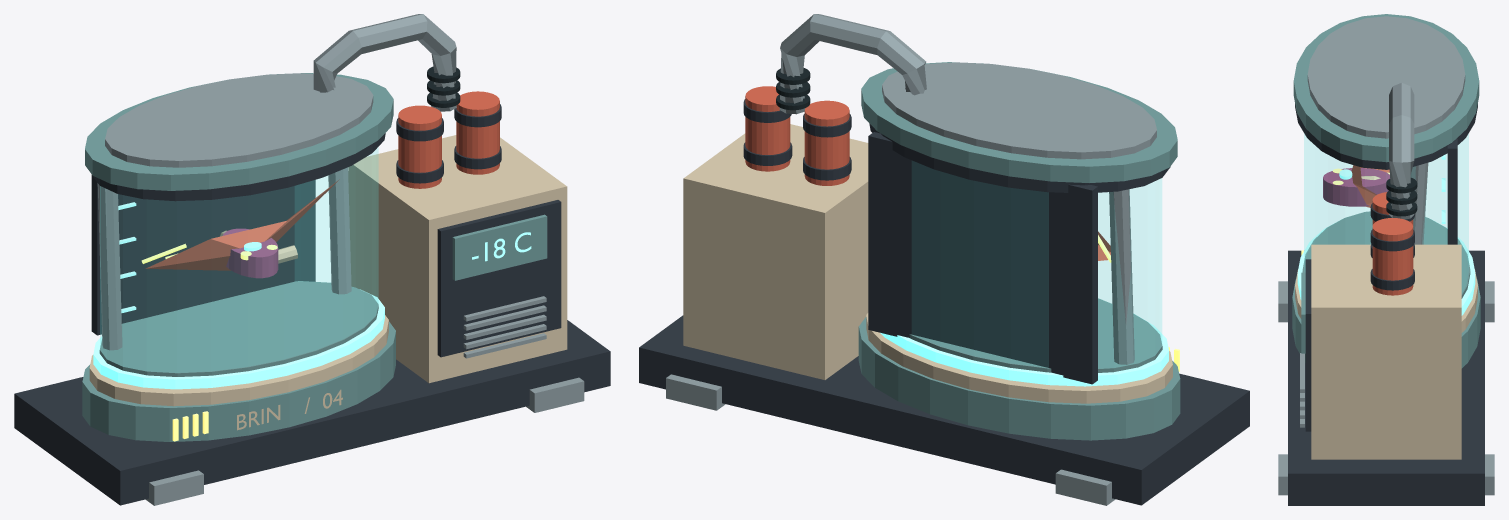
The model's file is brine_station.glb.
The picture shows the model from 3 angles, left to right: view 1: azimuth 30°, elevation 25°; view 2: azimuth 150°, elevation 25°; view 3: azimuth 270°, elevation 25°; orthographic projection. The views are drawn at different scales.
Visible parts, largest first — view 1: Casework, Specimen; view 2: Casework; view 3: Casework, Specimen.
Boxes of the visible parts, x1=… form: Casework: x1=14, y1=14, x2=610, y2=505; Specimen: x1=141, y1=179, x2=339, y2=278; Casework: x1=639, y1=14, x2=1249, y2=505; Casework: x1=1278, y1=14, x2=1494, y2=505; Specimen: x1=1323, y1=165, x2=1390, y2=207.
Bounding box in the file's own units: 4.15 × 2.93 × 1.7.
